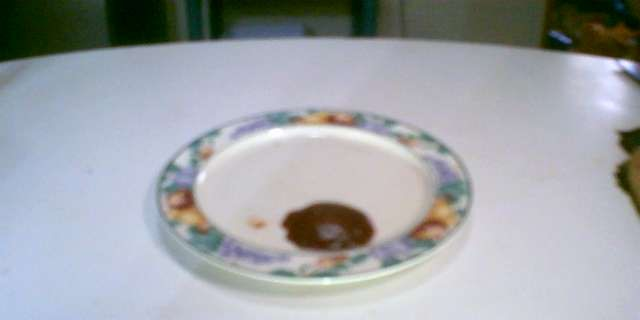ketchup_portion: (276, 197, 380, 256)
